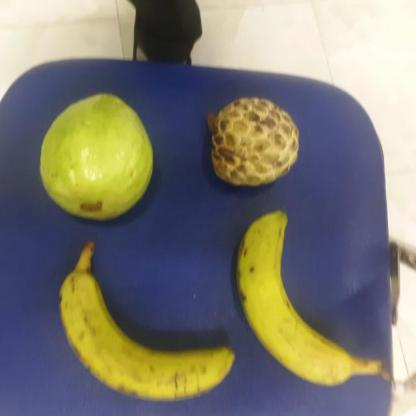annona: (205, 98, 299, 187)
banana: (51, 267, 231, 401), (233, 214, 351, 388)
guava: (36, 97, 152, 218), (204, 97, 296, 186)
